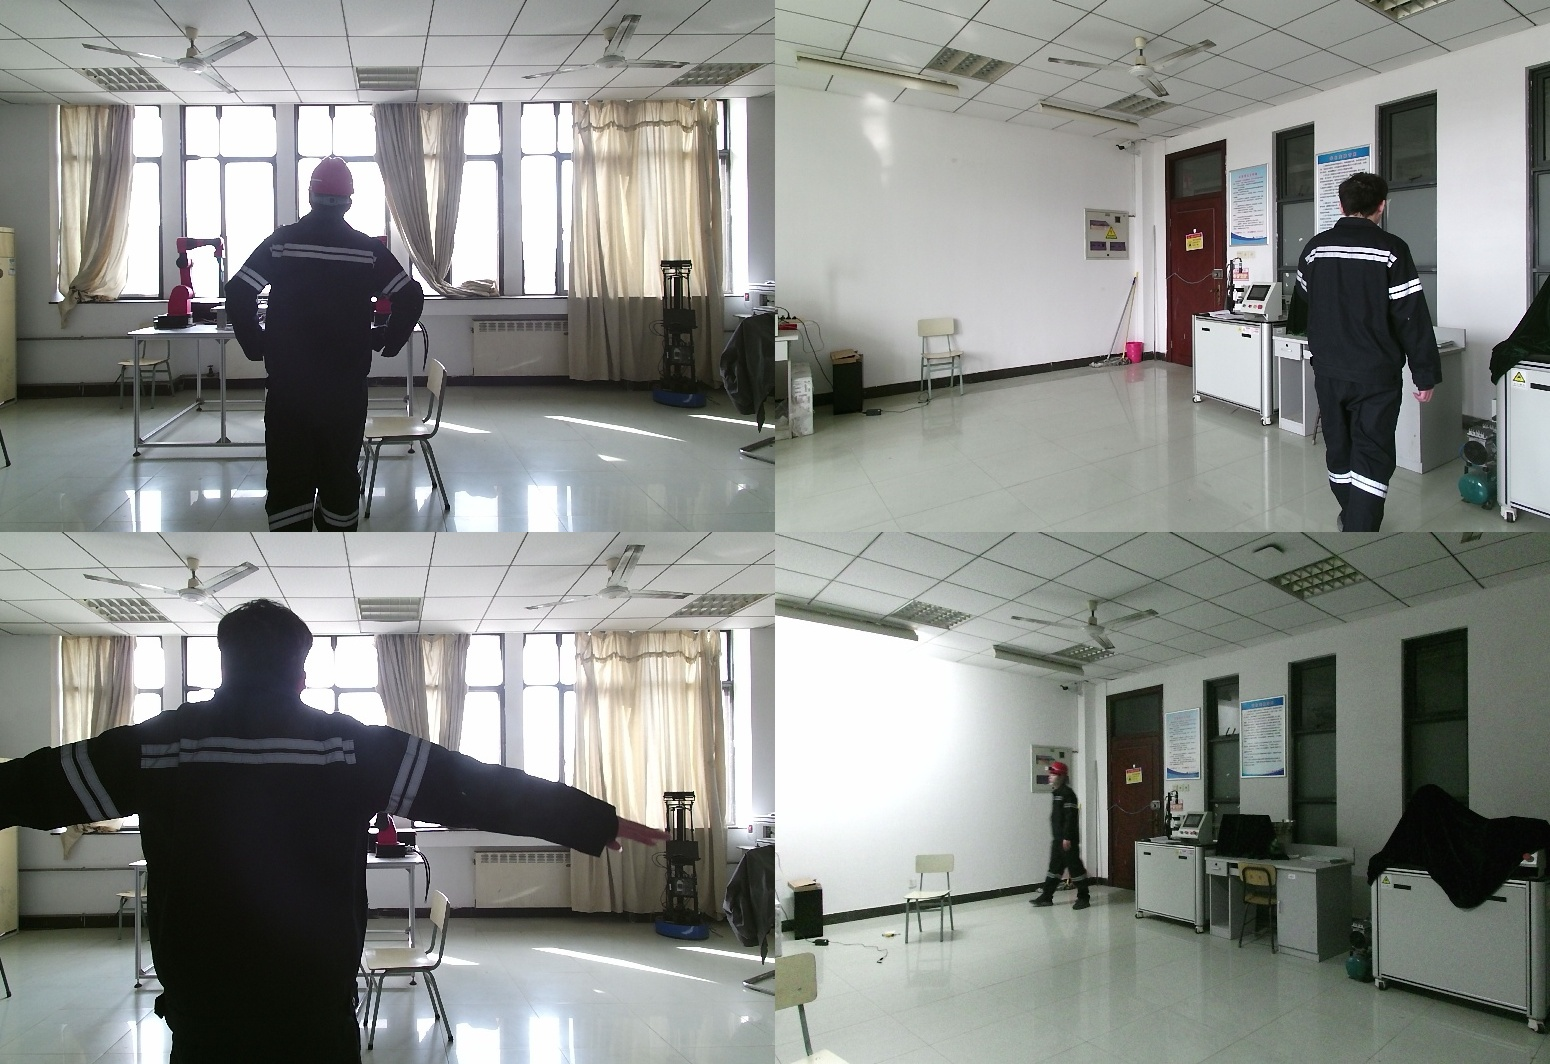person: (1, 601, 672, 1064), (225, 157, 441, 532), (1296, 173, 1462, 532), (1035, 763, 1100, 915)
